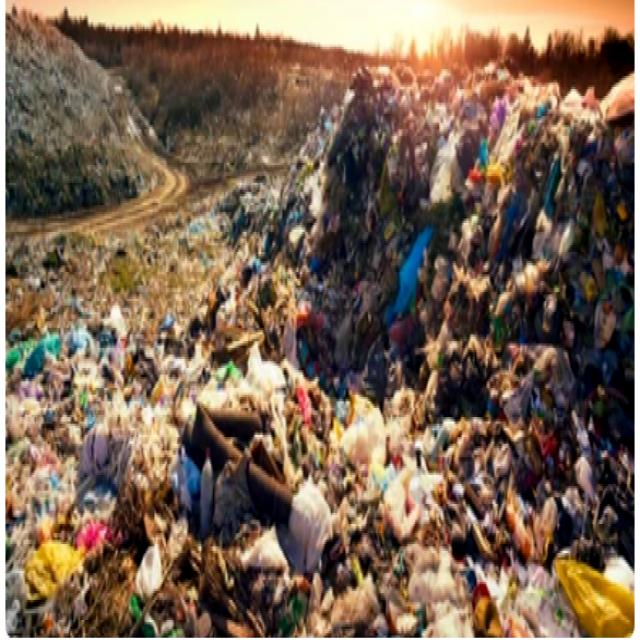Garbage: (12, 238, 632, 635), (292, 75, 633, 423)
